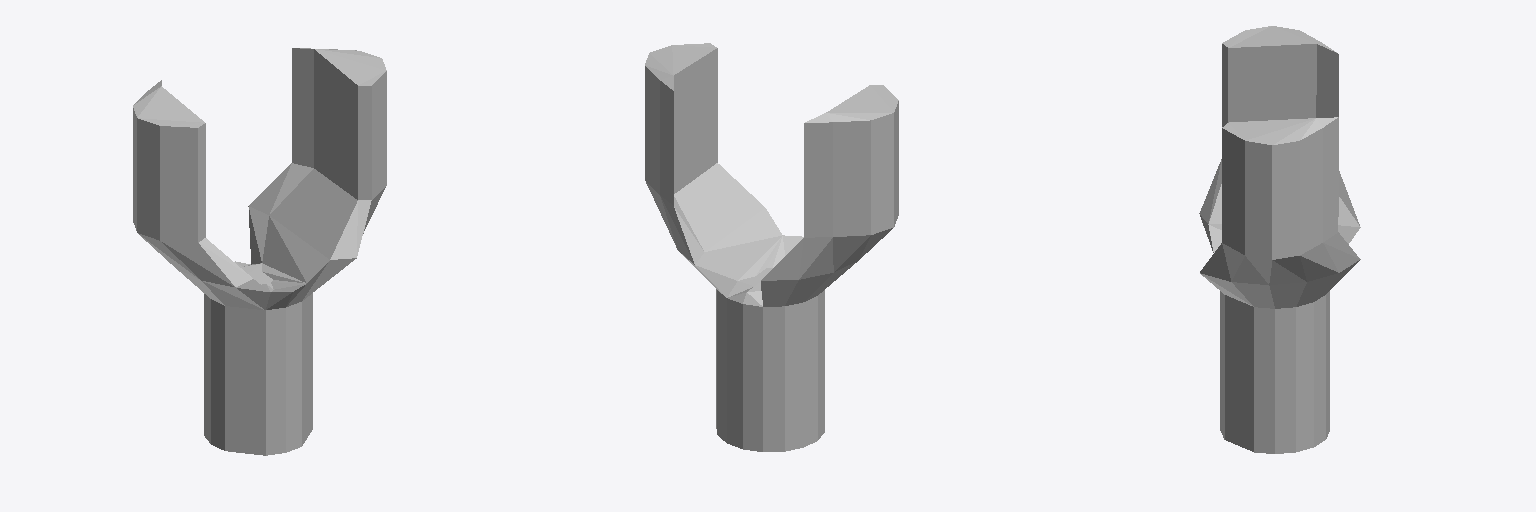
Rendered from basetop2.obj.
3 renders of one model, left to right at view 1: azimuth 30°, elevation 25°; view 2: azimuth 150°, elevation 25°; view 3: azimuth 270°, elevation 25°, orthographic.
Visible parts, largest first — view 1: Cylinder.007_Cylinder.016; view 2: Cylinder.007_Cylinder.016; view 3: Cylinder.007_Cylinder.016.
Part boxes in pixels (left/top/right/bottom): Cylinder.007_Cylinder.016: left=133, top=48, right=386, bottom=455; Cylinder.007_Cylinder.016: left=645, top=43, right=898, bottom=451; Cylinder.007_Cylinder.016: left=1199, top=26, right=1360, bottom=453.
Bounding box in the file's own units: 5.81 × 7.93 × 3.31.